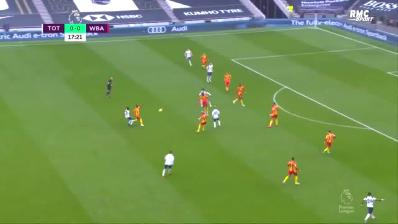football: (156, 106, 164, 114)
player: (360, 189, 386, 222), (283, 155, 303, 186), (160, 150, 180, 176), (320, 128, 338, 156), (266, 100, 282, 130), (231, 84, 249, 107), (134, 103, 146, 128), (211, 106, 223, 130), (182, 47, 196, 67), (196, 111, 208, 134), (123, 105, 134, 129), (222, 72, 234, 93), (199, 92, 210, 114), (206, 62, 215, 84), (199, 53, 209, 71)
referee: (104, 75, 114, 99)
